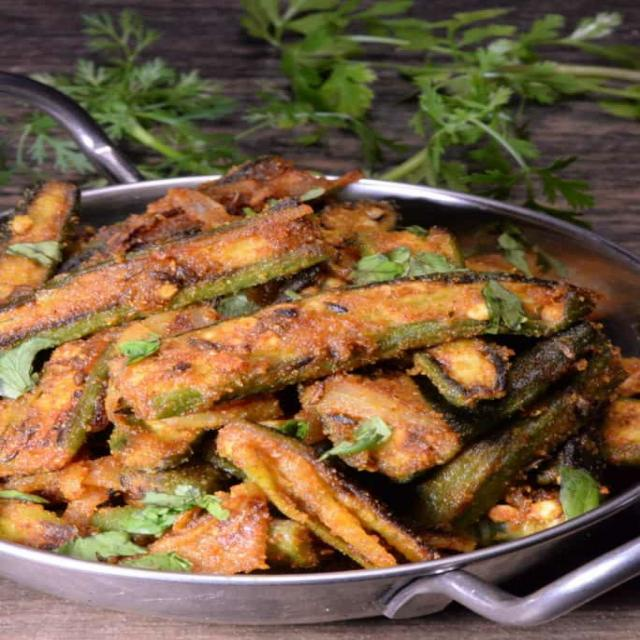BhindiMasala: (0, 155, 640, 575)
